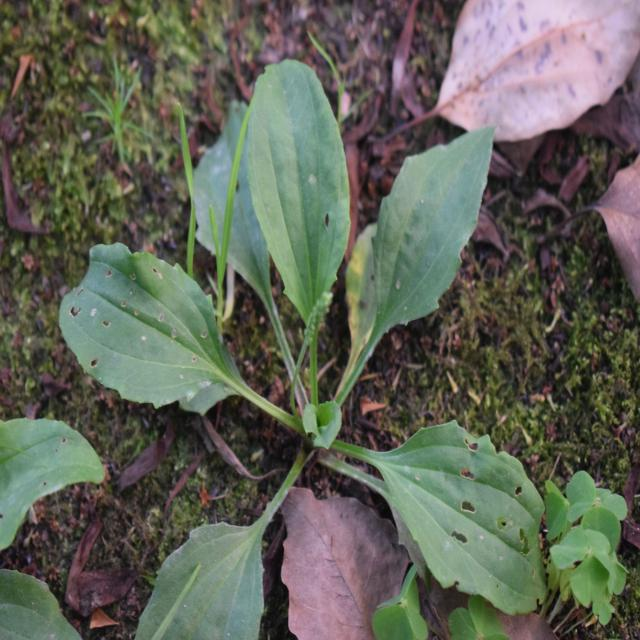plantain: (94, 60, 538, 606)
